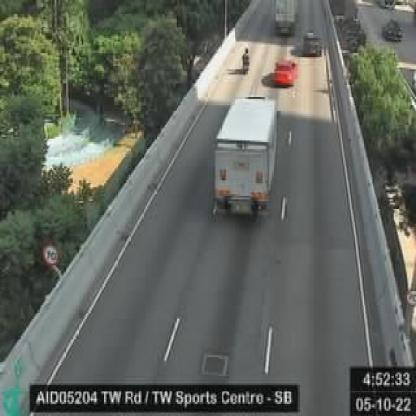Car: (272, 59, 298, 87), (300, 29, 321, 52)
Truck: (209, 93, 276, 222)
